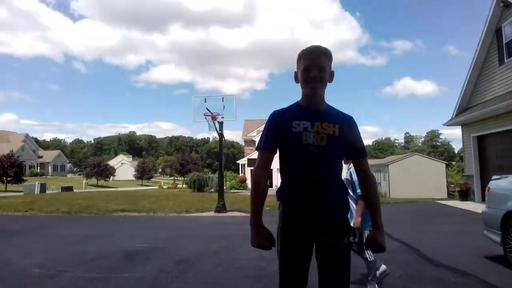human: (251, 45, 387, 288), (342, 154, 392, 288)
rim: (204, 112, 222, 130)
